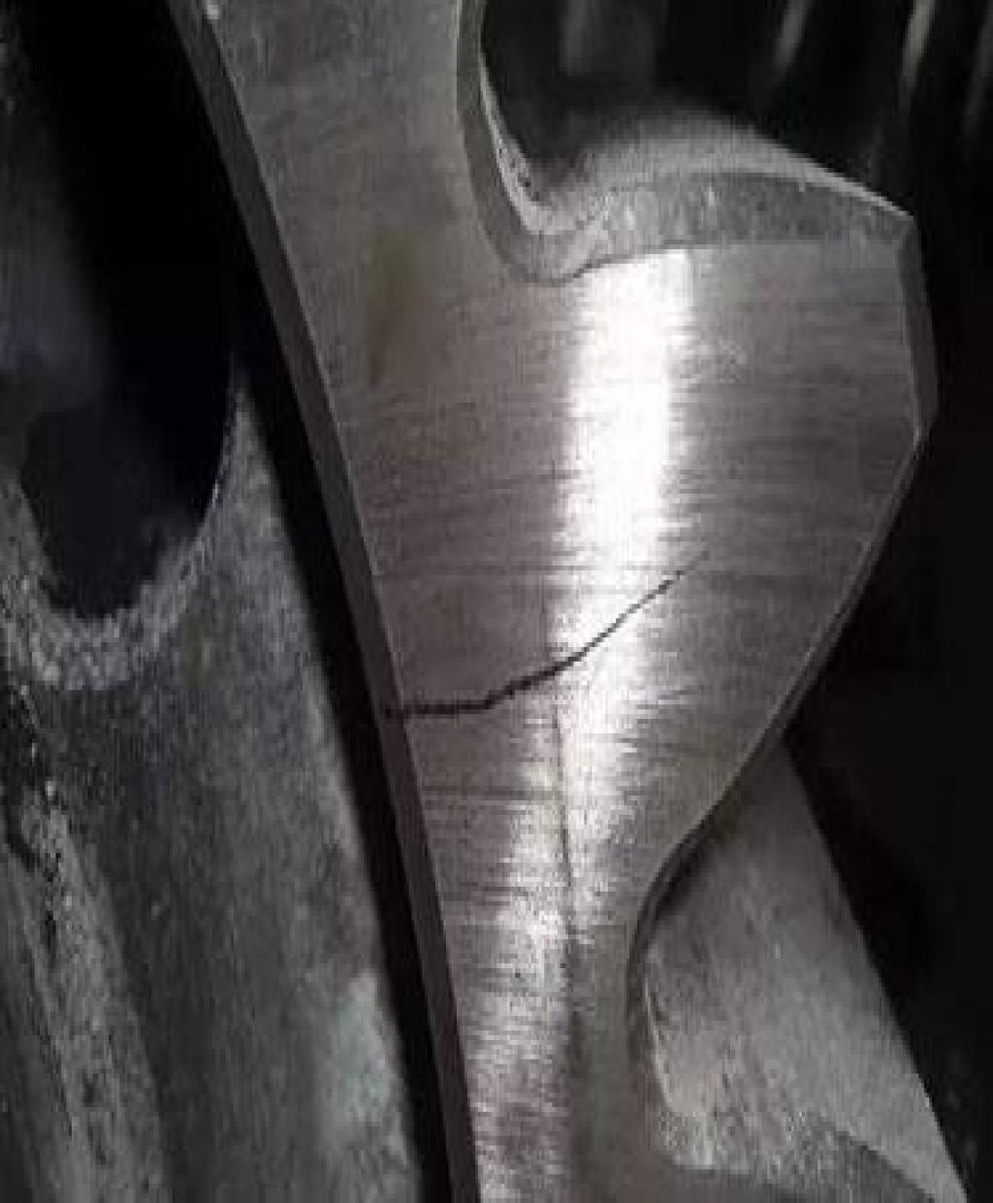crack: (395, 534, 712, 728)
